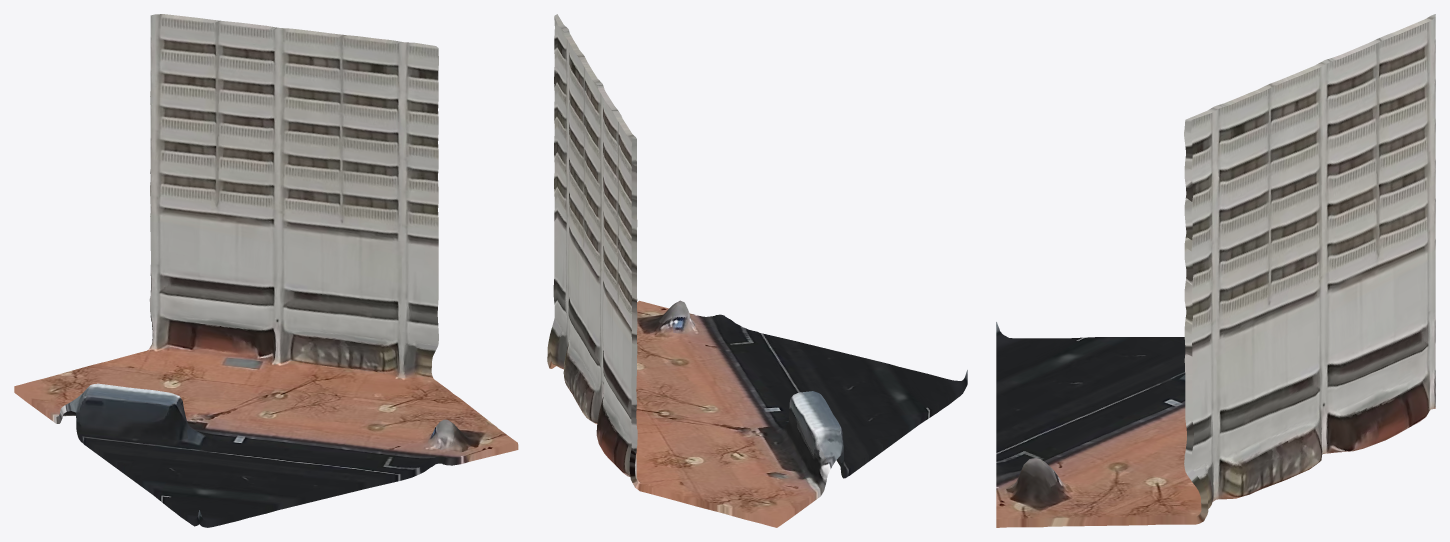
File: z20-167785-405225-h0-yup-uvflip-v3-world.glb
3 renders of one model, left to right at view 1: azimuth 30°, elevation 25°; view 2: azimuth 150°, elevation 25°; view 3: azimuth 270°, elevation 25°, orthographic. The views are drawn at different scales.
Bounding box in the file's own units: 30.2 × 31.36 × 30.32.
Materials: 1 (1 with a texture image).
